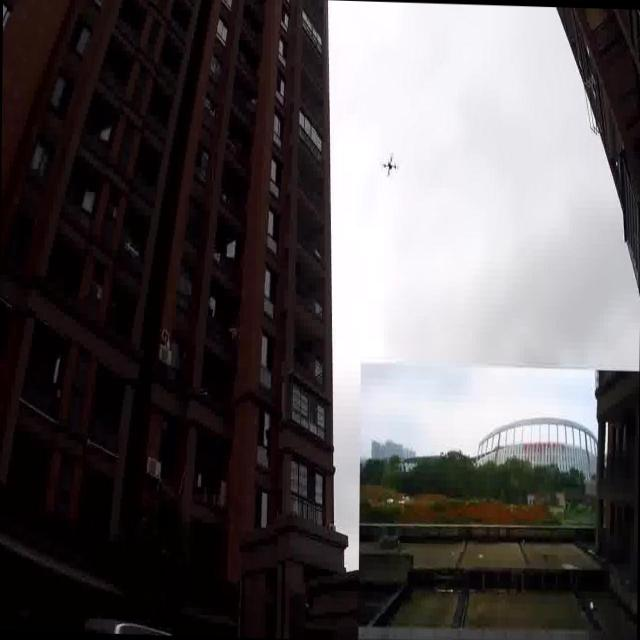drone: (380, 146, 399, 178)
